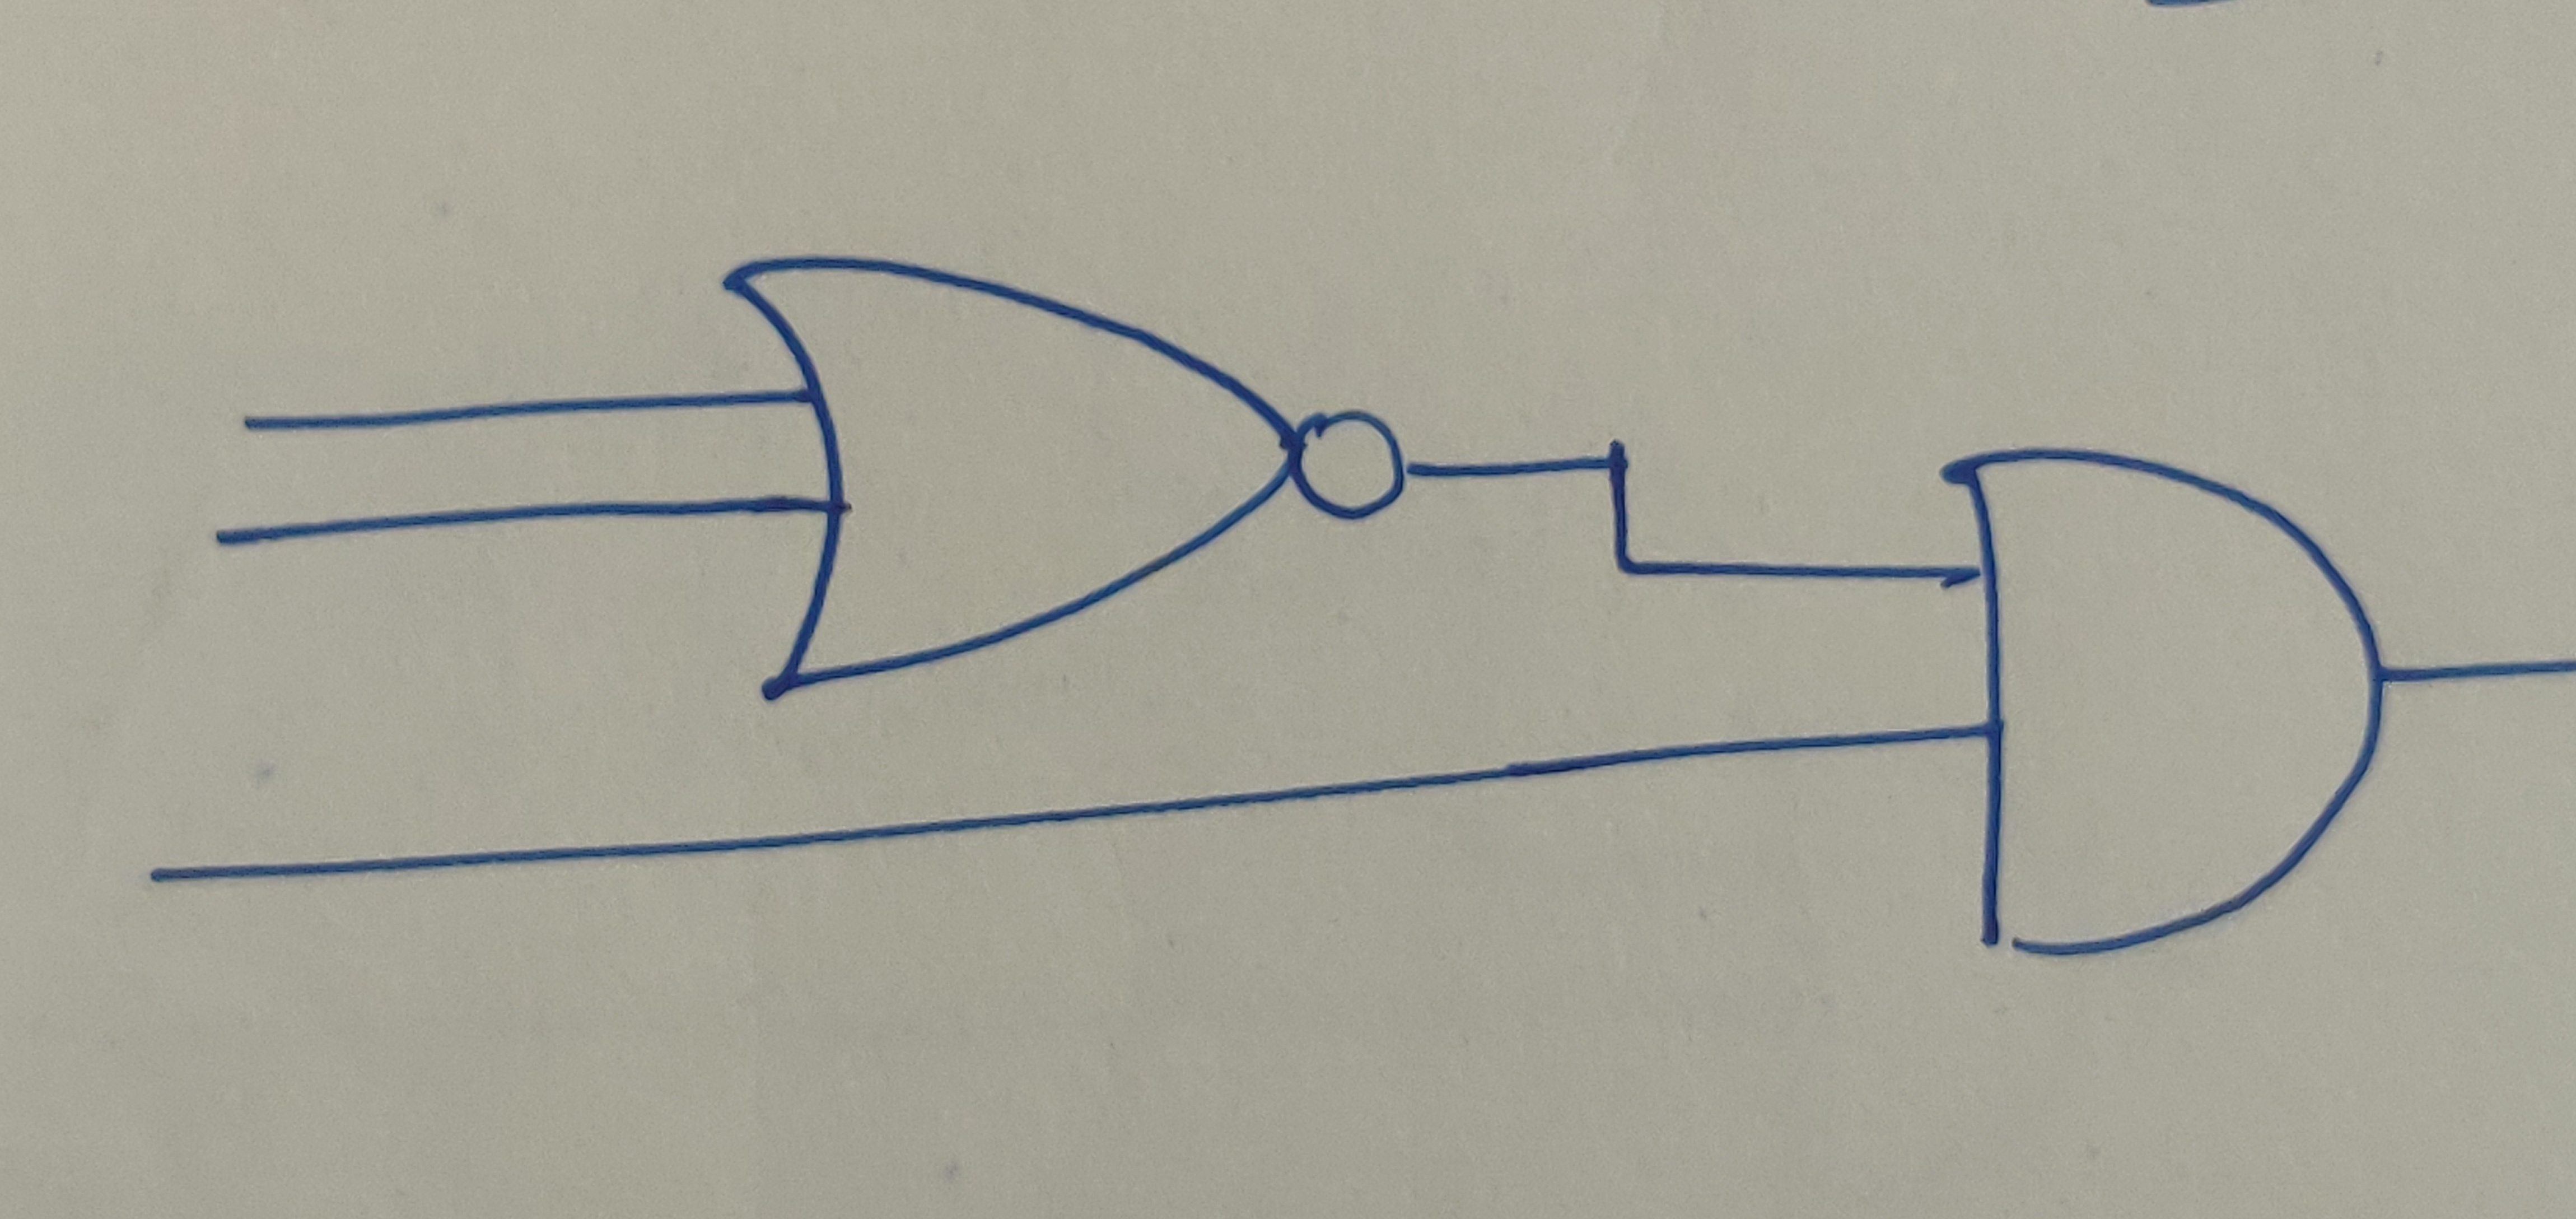and: (1950, 445, 2399, 961)
not: (1288, 406, 1410, 524)
or: (718, 253, 1301, 701)
